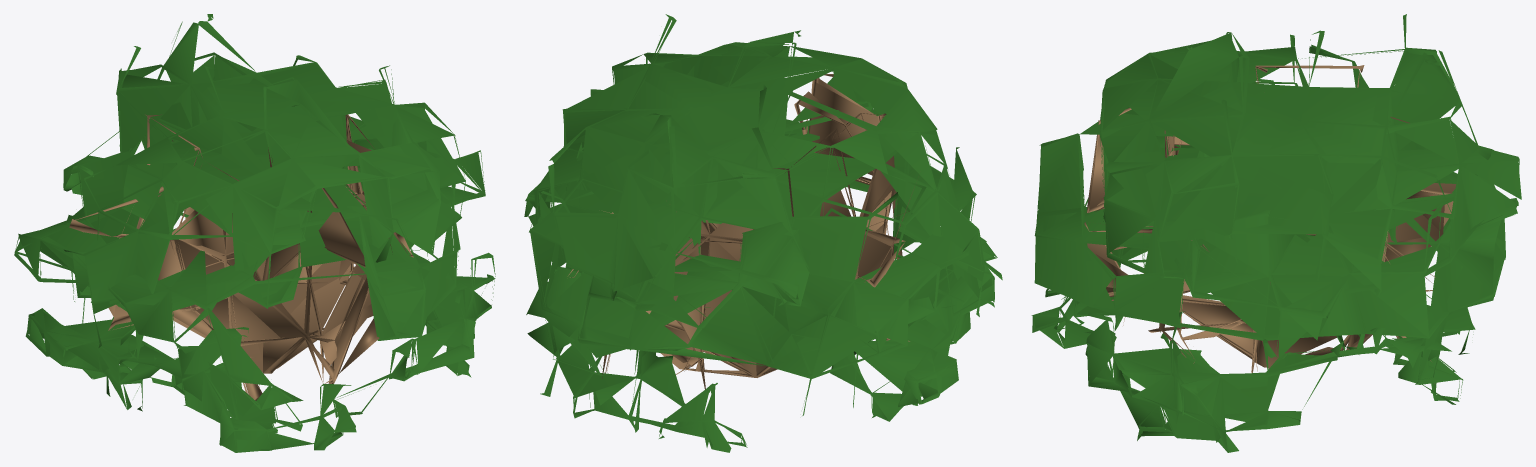
Rendered from dense-bush.glb.
3 views of the same model, side by side, from view 1: azimuth 30°, elevation 25°; view 2: azimuth 150°, elevation 25°; view 3: azimuth 270°, elevation 25° (orthographic). The views are drawn at different scales.
Visible parts, largest first — view 1: Open3dModel.com_Model (1); view 2: Open3dModel.com_Model (1); view 3: Open3dModel.com_Model (1).
Part boxes in pixels (x1,y1,x2,y2): Open3dModel.com_Model (1): (14, 14, 495, 452); Open3dModel.com_Model (1): (524, 14, 1002, 452); Open3dModel.com_Model (1): (1031, 14, 1521, 452).
Bounding box in the file's own units: 141 × 104 × 142.
